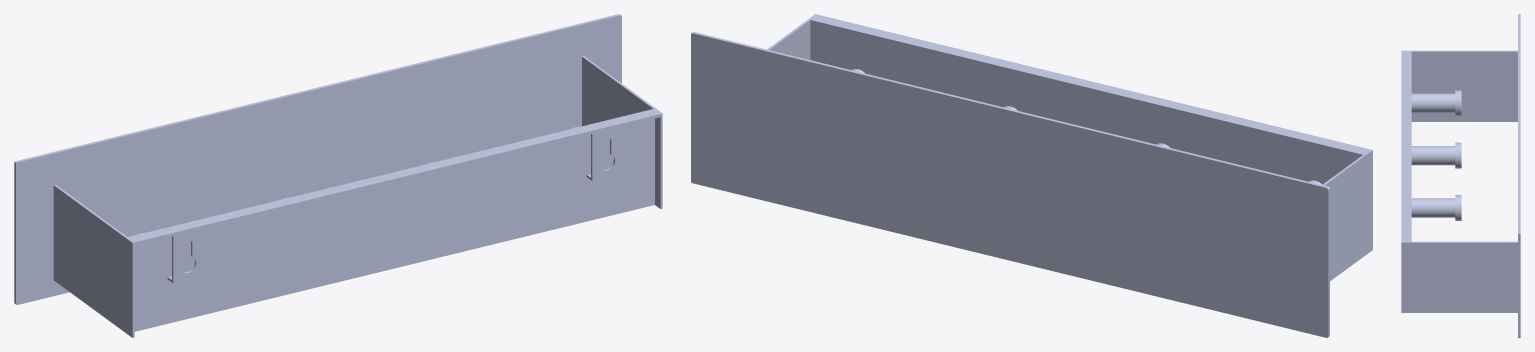
The model's file is skyline-hook.243f592eab.glb.
3 renders of one model, left to right at view 1: azimuth 30°, elevation 25°; view 2: azimuth 150°, elevation 25°; view 3: azimuth 270°, elevation 25°, orthographic. The views are drawn at different scales.
Visible parts, largest first — view 1: NAUO1; view 2: NAUO1; view 3: NAUO1.
Boxes of the visible parts, bbox=[...] form: NAUO1: bbox=[14, 14, 662, 337]; NAUO1: bbox=[691, 14, 1372, 337]; NAUO1: bbox=[1401, 14, 1520, 337].
Size of the model in its own units: 0.4 by 0.09 by 0.092.
